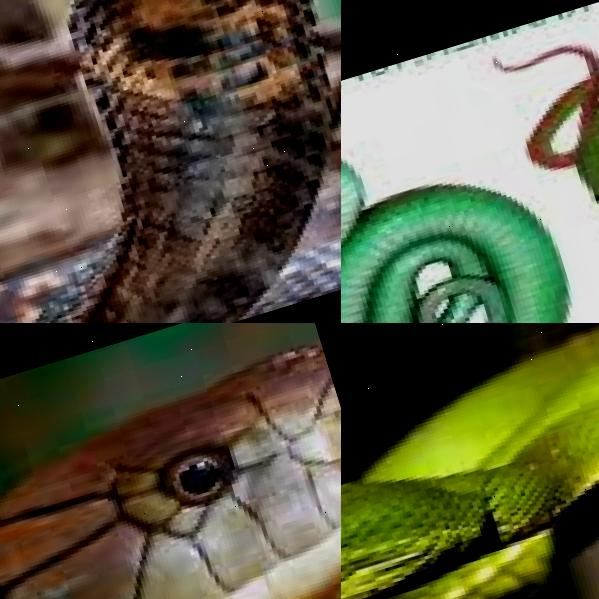snake: (0, 0, 341, 323), (0, 323, 341, 599), (341, 323, 599, 599), (514, 36, 599, 323)
